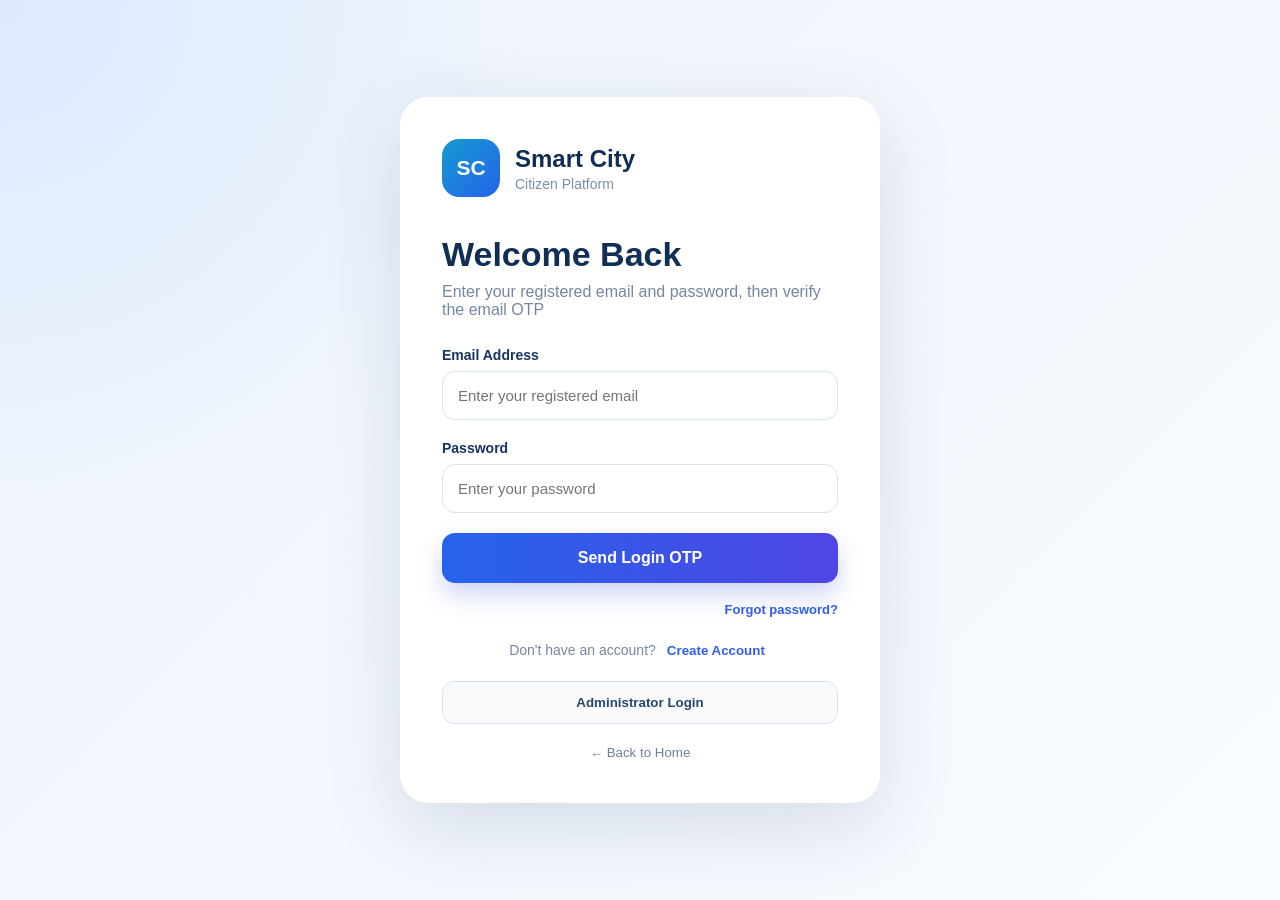
Test: empty form uses an accessible JavaScript error and focuses the email
Click the button "Send Login OTP".
click(640, 558)  # box [442, 533, 838, 583]
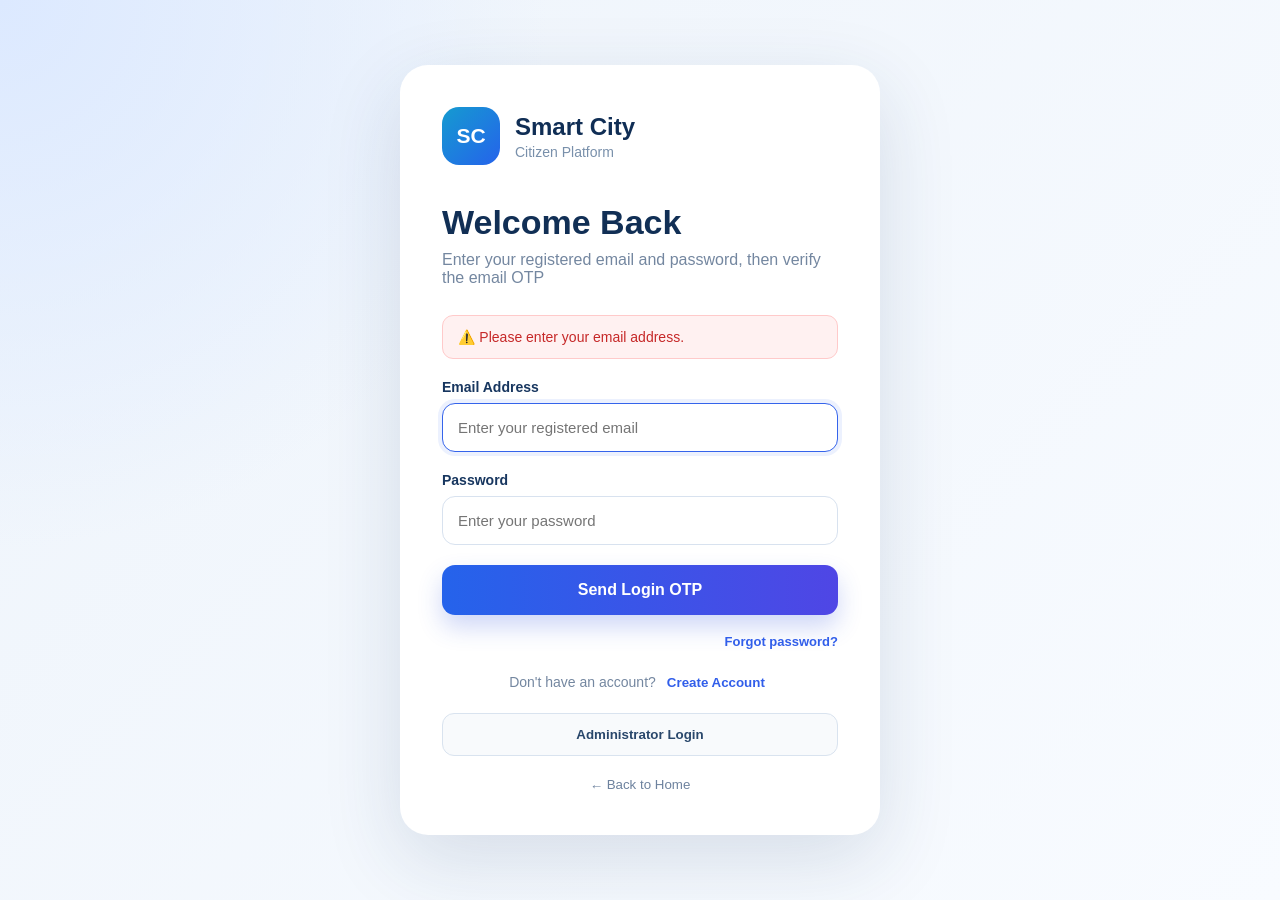
expect the message shows "Please enter your email address.": met, box [479, 329, 684, 345]
